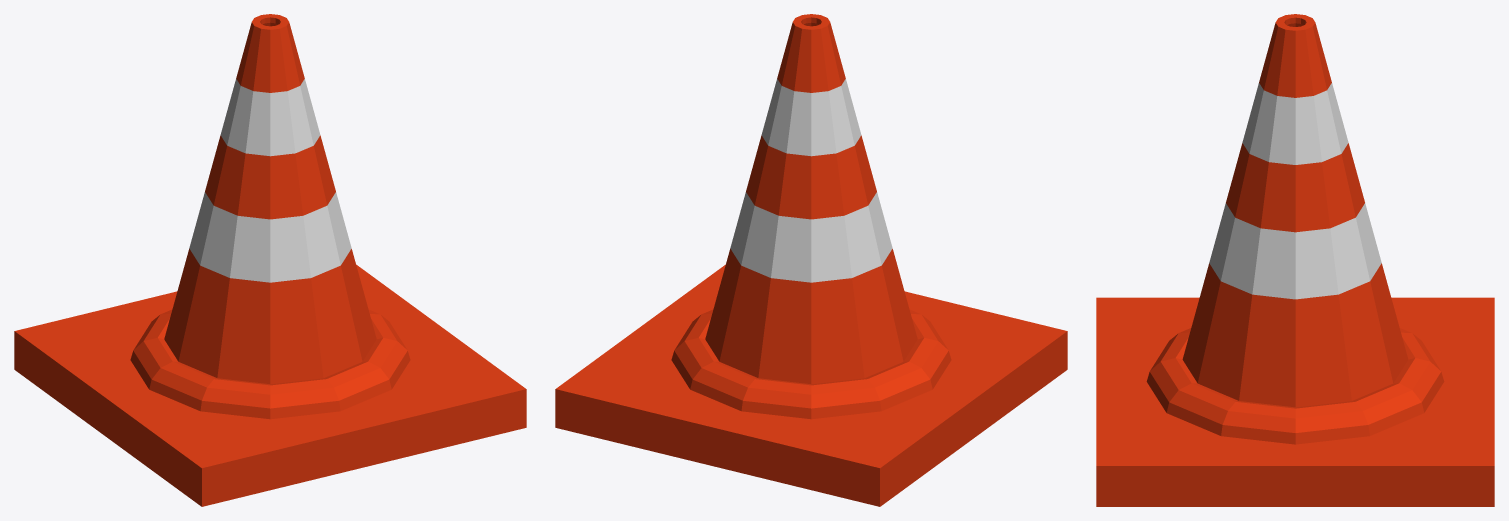
3 renders of one model, left to right at view 1: azimuth 30°, elevation 25°; view 2: azimuth 150°, elevation 25°; view 3: azimuth 270°, elevation 25°, orthographic. The views are drawn at different scales.
Parts seen in each view (by area): view 1: O4; view 2: O4; view 3: O4.
Part boxes in pixels (box(x1,y1,x2,y2)): O4: box(14, 14, 526, 506); O4: box(555, 14, 1067, 506); O4: box(1096, 14, 1494, 506).
Size of the model in its own units: 200 by 222 by 200.
